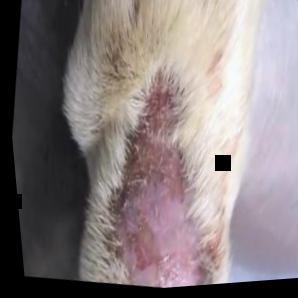skin_lesions: (82, 79, 234, 294)
